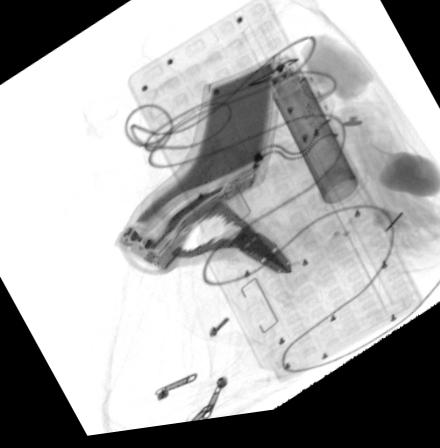Powerbank: (187, 62, 284, 212)
Scissors: (170, 198, 295, 285)
